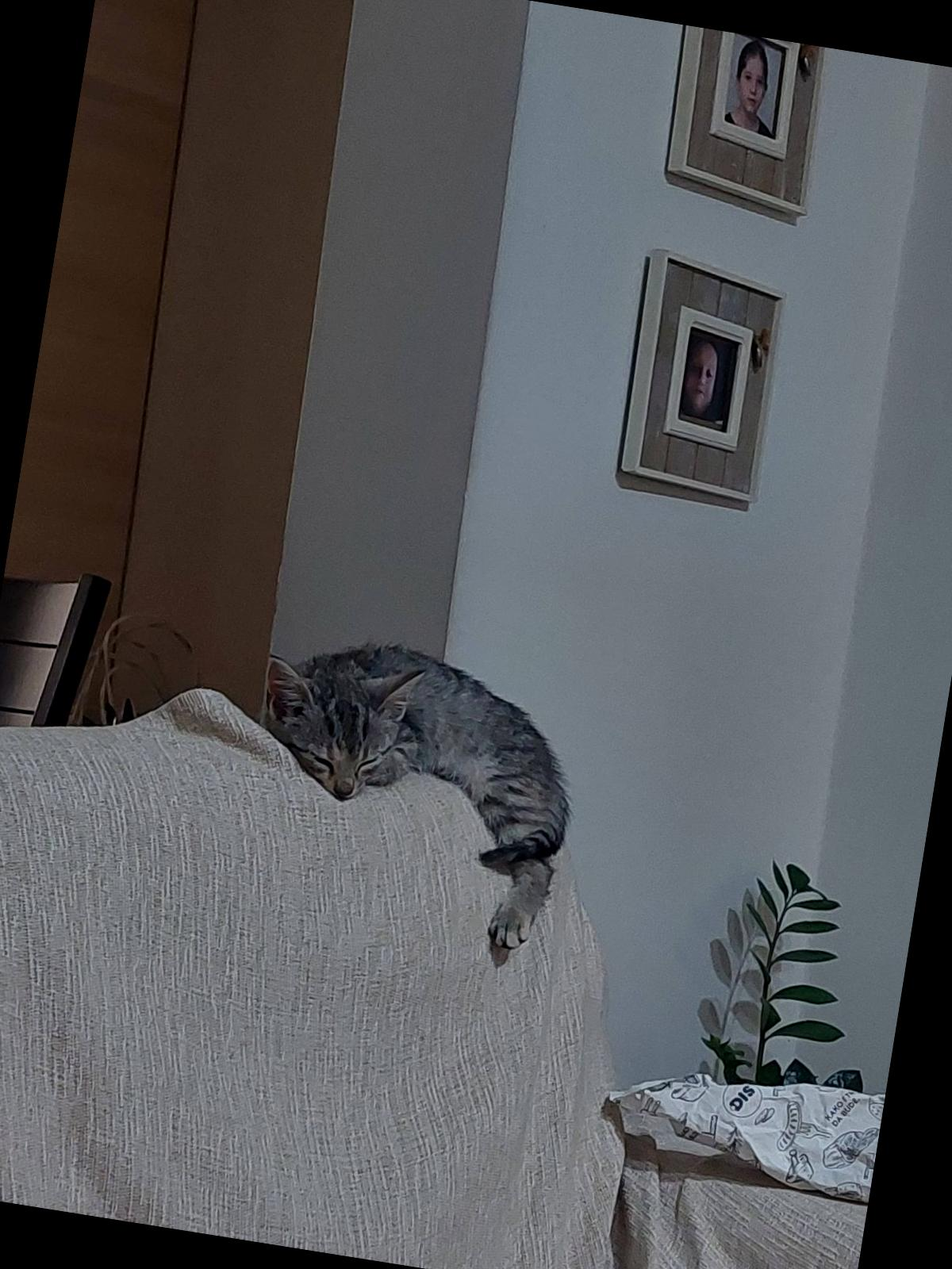macka: (225, 624, 598, 963)
